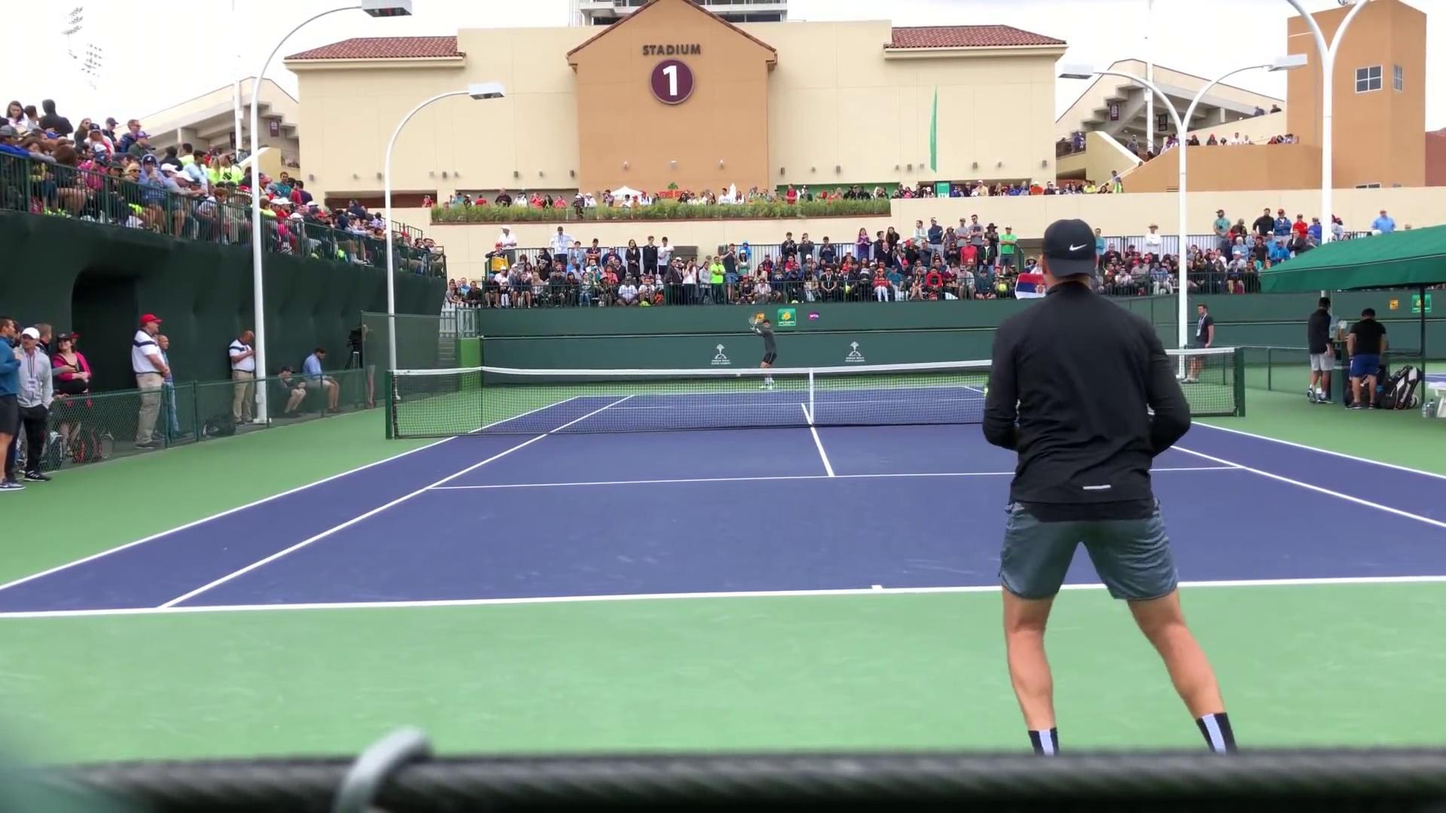ball: (435, 483, 440, 488)
